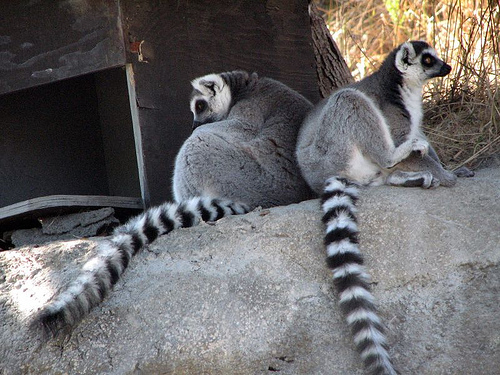cat: (31, 68, 319, 351), (295, 41, 458, 374)
